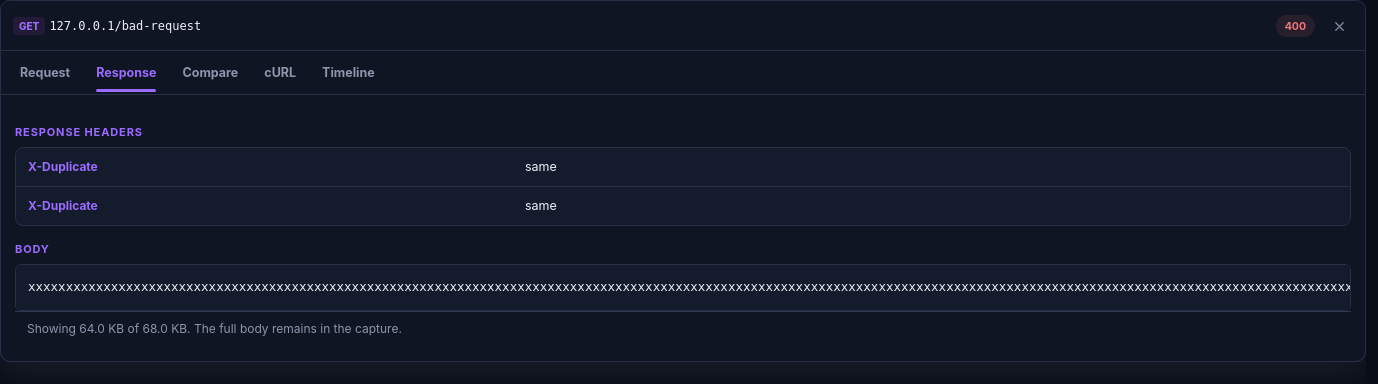
Scenario: Inspector › bounds a large generated cURL command
Step 1. Click the tab "cURL" → [280, 74], box [253, 55, 307, 94]
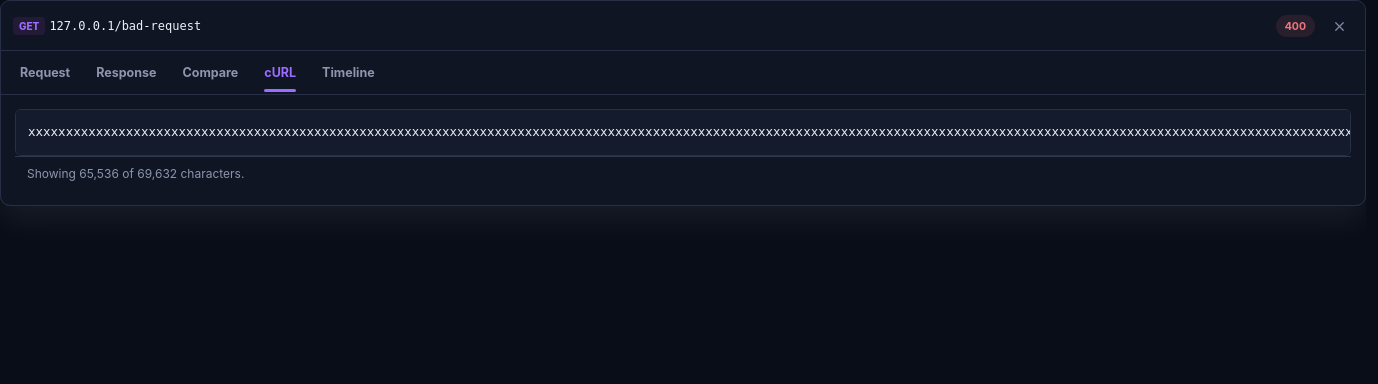
Expected: the text "Showing 65,536 of 69,632 characters." is shown, [15, 156, 1351, 191]
